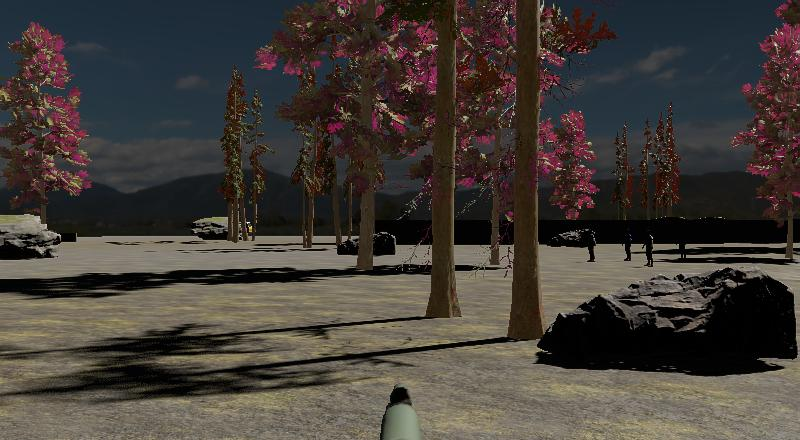Tank: (334, 228, 398, 258)
